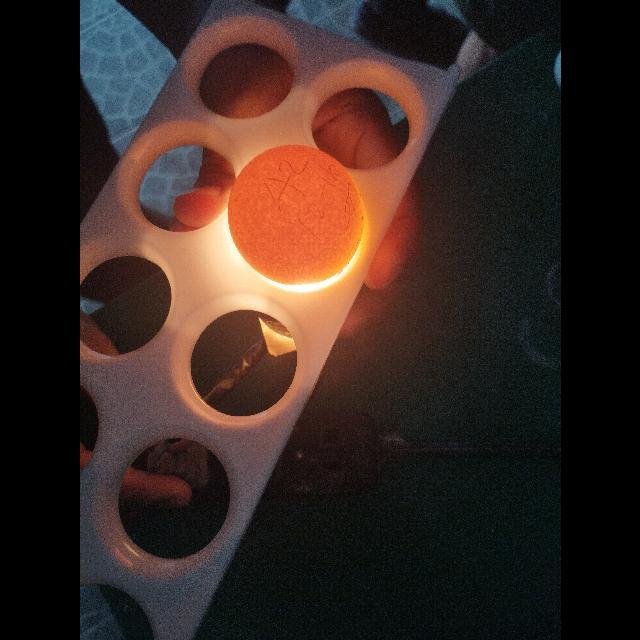A - Good: (228, 148, 358, 276)
